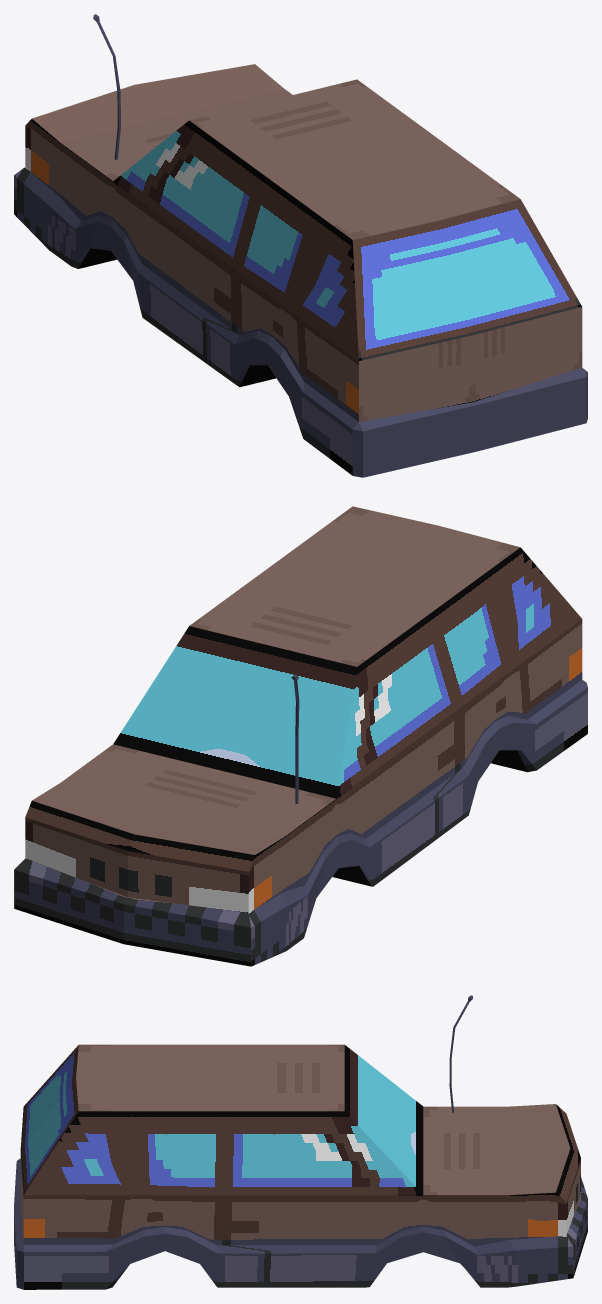
The model's file is car_top.glb.
The picture shows the model from 3 angles, top to bottom: view 1: azimuth 30°, elevation 25°; view 2: azimuth 150°, elevation 25°; view 3: azimuth 270°, elevation 25°; orthographic projection. The views are drawn at different scales.
Visible parts, largest first — view 1: Car; view 2: Car; view 3: Car.
Part boxes in pixels (box(x1,y1,x2,y2)): Car: box(14, 64, 587, 477); Car: box(14, 506, 587, 966); Car: box(14, 1044, 587, 1289).
Bounding box in the file's own units: 1.9 × 1.96 × 4.89.
Materials: 2 (2 with a texture image).
